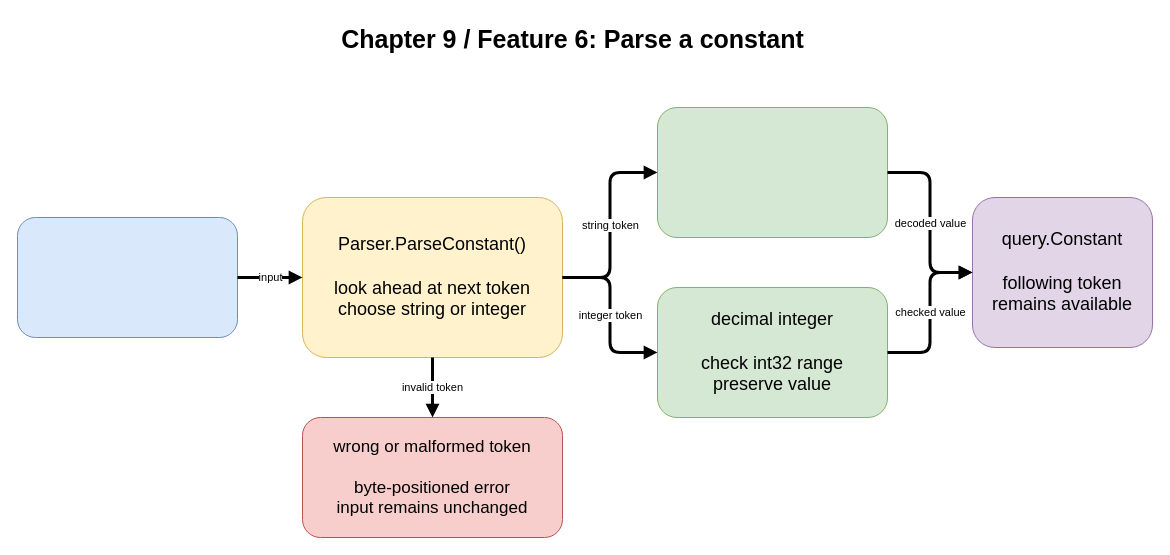
The diagram is 1170 pixels wide and 555 high, and some of its shapes have lost their labels. The shapes that lost their labels are listed below. From the top down, each one's centre as x and y in pixels, then its label:
At (772,172): "single-quoted string decode doubled quote preserve content".
At (127,277): "SQL input 42 or 'text'".
